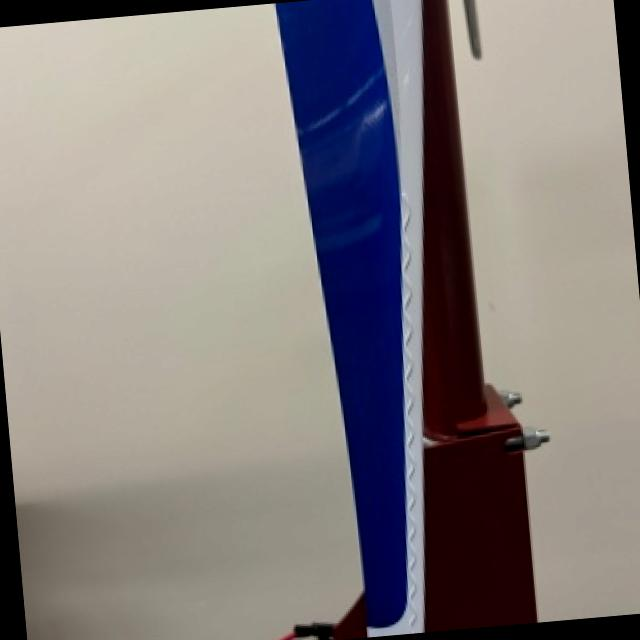healthy: (17, 459, 359, 640)
